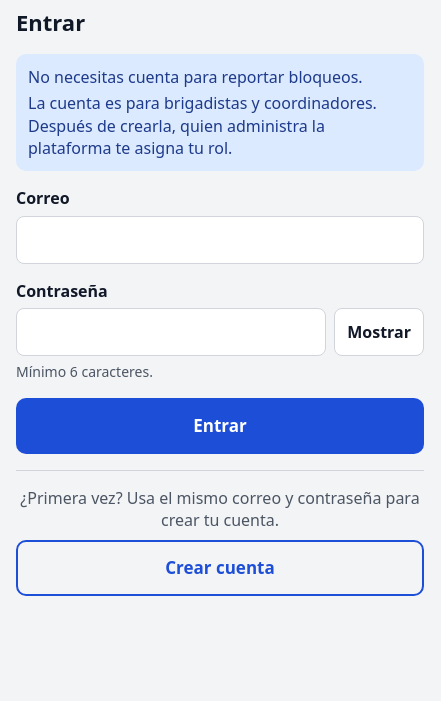
IniciarSesion › al crear cuenta avisa si hay que confirmar el correo
Type "nuevo@ejemplo.mx" into the field labelled "Correo" at [220, 240], box [16,216,424,264]
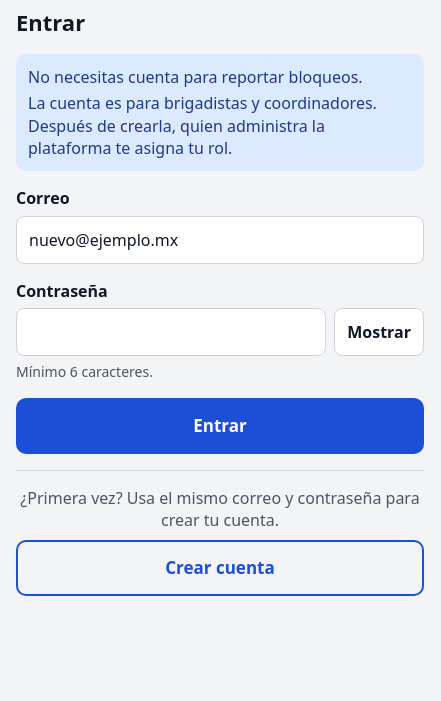
Type "secreta1" into the password field labelled "Contraseña" at [171, 332], box [16,308,326,356]
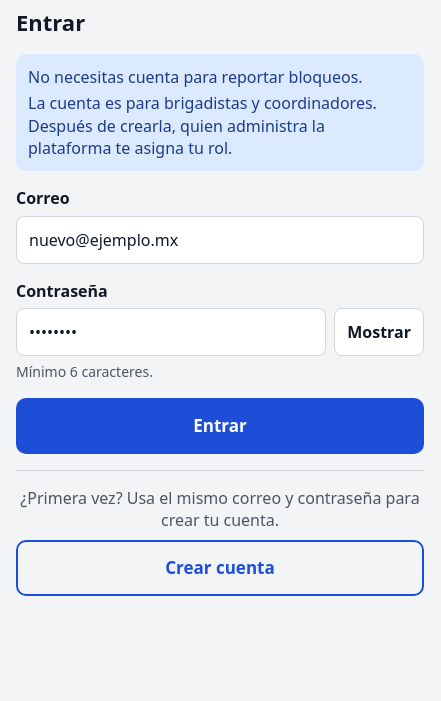
Click the button "Crear cuenta" at [220, 568], box [16,540,424,596]
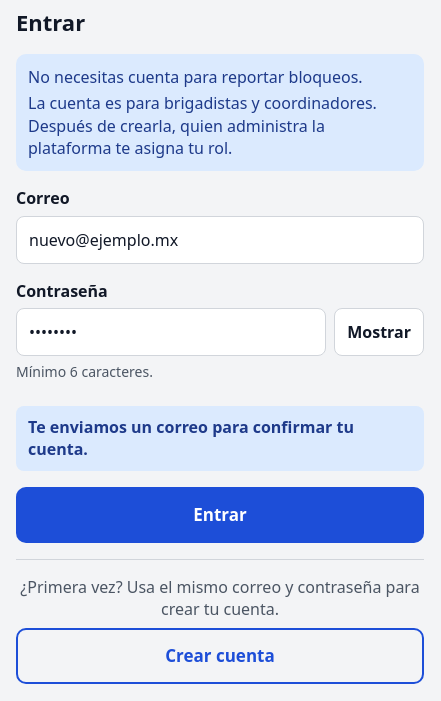
Check: the text "Te enviamos un correo para confirmar tu cuenta." is shown, box [28,416,354,460]
